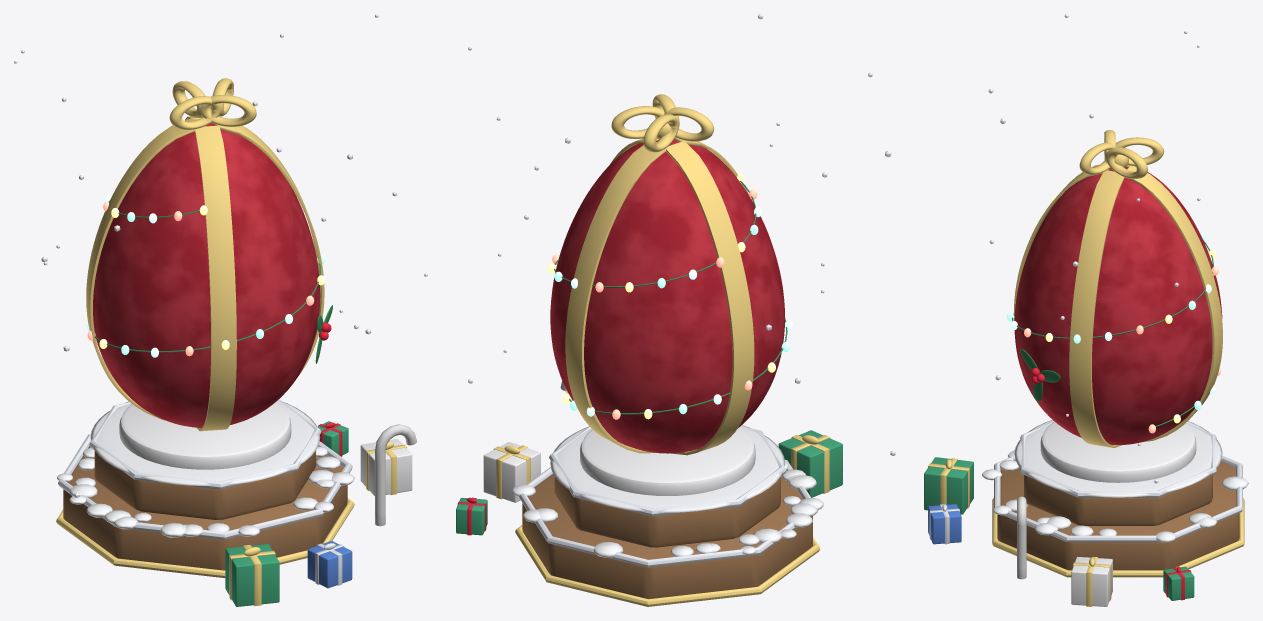
Rendered from wintergiftegg.glb.
3 views of the same model, side by side, from view 1: azimuth 30°, elevation 25°; view 2: azimuth 150°, elevation 25°; view 3: azimuth 270°, elevation 25° (orthographic). The views are drawn at different scales.
Parts seen in each view (by area): view 1: WinterGiftEgg_Body, WinterGiftEgg_Stand_Base, WinterGiftEgg_Ribbon.002, WinterGiftEgg_Stand_Cup, WinterGiftEgg_Stand_Mid, WinterGiftEgg_SnowRing, WinterGiftEgg_Ribbon.001, WinterGiftEgg_Present, WinterGiftEgg_Stand_Trim.002, WinterGiftEgg_Stand_Trim, WinterGiftEgg_Present.002, WinterGiftEgg_Stand_Trim.001 (+7 smaller); view 2: WinterGiftEgg_Body, WinterGiftEgg_Stand_Base, WinterGiftEgg_Stand_Cup, WinterGiftEgg_Ribbon.001, WinterGiftEgg_Stand_Mid, WinterGiftEgg_Ribbon.003, WinterGiftEgg_SnowRing, WinterGiftEgg_Stand_Trim.002, WinterGiftEgg_Stand_Trim, WinterGiftEgg_Present, WinterGiftEgg_Present.002, WinterGiftEgg_Stand_Trim.001 (+5 smaller); view 3: WinterGiftEgg_Body, WinterGiftEgg_Stand_Base, WinterGiftEgg_Ribbon, WinterGiftEgg_Stand_Cup, WinterGiftEgg_Stand_Mid, WinterGiftEgg_SnowRing, WinterGiftEgg_Ribbon.003, WinterGiftEgg_Stand_Trim, WinterGiftEgg_Present, WinterGiftEgg_Stand_Trim.002, WinterGiftEgg_Present.002, WinterGiftEgg_Stand_Trim.001 (+7 smaller).
Boxes of the visible parts, <box> form: WinterGiftEgg_Body: <box>93,123,320,427</box>; WinterGiftEgg_Stand_Base: <box>63,446,347,570</box>; WinterGiftEgg_Ribbon.002: <box>195,125,236,431</box>; WinterGiftEgg_Stand_Cup: <box>119,402,291,469</box>; WinterGiftEgg_Stand_Mid: <box>94,451,315,519</box>; WinterGiftEgg_SnowRing: <box>90,401,320,485</box>; WinterGiftEgg_Ribbon.001: <box>86,117,194,420</box>; WinterGiftEgg_Present: <box>225,544,279,606</box>; WinterGiftEgg_Stand_Trim.002: <box>56,498,354,577</box>; WinterGiftEgg_Stand_Trim: <box>58,434,352,539</box>; WinterGiftEgg_Present.002: <box>360,439,412,495</box>; WinterGiftEgg_Stand_Trim.001: <box>89,399,321,489</box>; WinterGiftEgg_Body: <box>550,139,784,453</box>; WinterGiftEgg_Stand_Base: <box>522,474,812,598</box>; WinterGiftEgg_Stand_Cup: <box>580,427,755,495</box>; WinterGiftEgg_Ribbon.001: <box>665,141,754,455</box>; WinterGiftEgg_Stand_Mid: <box>554,477,780,547</box>; WinterGiftEgg_Ribbon.003: <box>565,142,667,453</box>; WinterGiftEgg_SnowRing: <box>550,425,784,512</box>; WinterGiftEgg_Stand_Trim.002: <box>515,525,820,606</box>; WinterGiftEgg_Stand_Trim: <box>519,459,818,567</box>; WinterGiftEgg_Present: <box>778,430,842,497</box>; WinterGiftEgg_Present.002: <box>483,442,540,502</box>; WinterGiftEgg_Stand_Trim.001: <box>549,426,786,516</box>; WinterGiftEgg_Body: <box>1014,167,1222,444</box>; WinterGiftEgg_Stand_Base: <box>997,461,1239,570</box>; WinterGiftEgg_Ribbon: <box>1069,170,1124,447</box>; WinterGiftEgg_Stand_Cup: <box>1040,421,1196,482</box>; WinterGiftEgg_Stand_Mid: <box>1024,475,1212,525</box>; WinterGiftEgg_SnowRing: <box>1014,420,1222,497</box>; WinterGiftEgg_Ribbon.003: <box>1127,165,1222,441</box>; WinterGiftEgg_Stand_Trim: <box>994,455,1242,542</box>; WinterGiftEgg_Present: <box>924,457,973,514</box>; WinterGiftEgg_Stand_Trim.002: <box>992,497,1244,577</box>; WinterGiftEgg_Present.002: <box>1071,557,1112,606</box>; WinterGiftEgg_Stand_Trim.001: <box>1020,421,1216,497</box>.
Bounding box in the file's own units: 4.73 × 5.87 × 3.96.
Materials: 15 (1 with a texture image).
